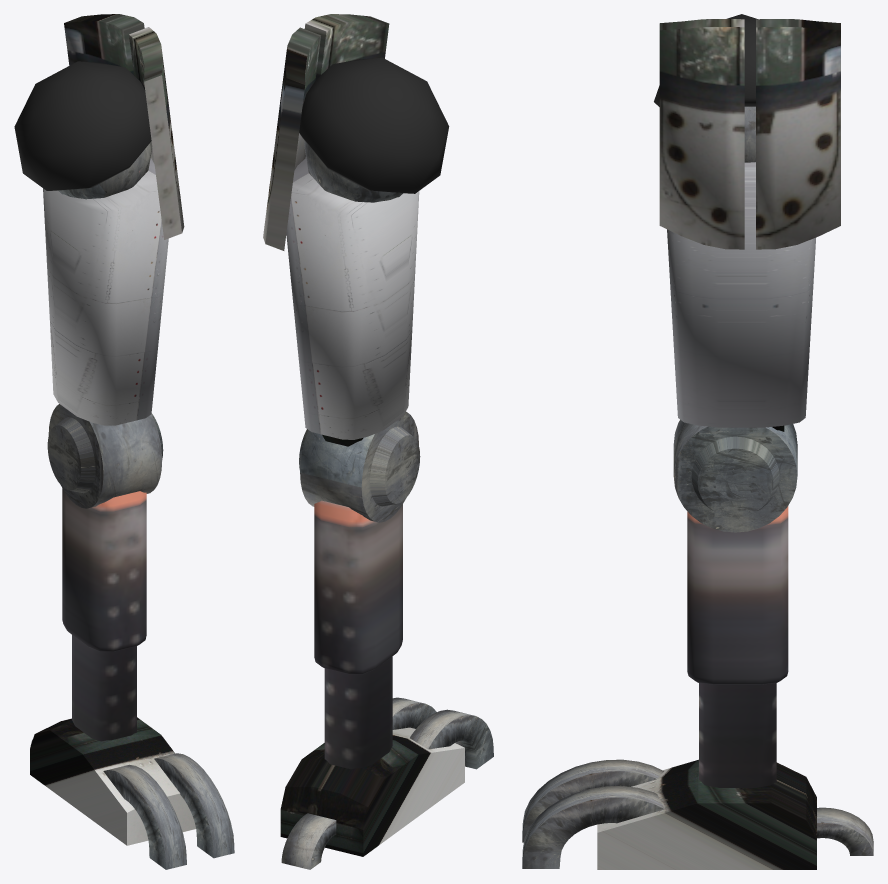
The model's file is Robot 5 leg.fbx.
3 renders of one model, left to right at view 1: azimuth 30°, elevation 25°; view 2: azimuth 150°, elevation 25°; view 3: azimuth 270°, elevation 25°, orthographic. The views are drawn at different scales.
Parts seen in each view (by area): view 1: Icosphere.001, Cylinder.004, Cube.013, Icosphere.002; view 2: Icosphere.001, Cylinder.004, Cube.013, Icosphere.002; view 3: Icosphere.001, Cylinder.004, Cube.013, Icosphere.002.
Part boxes in pixels (<box>): Icosphere.001: <box>43,14,184,425</box>; Cylinder.004: <box>47,404,163,741</box>; Cube.013: <box>30,717,234,869</box>; Icosphere.002: <box>14,61,151,190</box>; Icosphere.001: <box>263,14,419,446</box>; Cylinder.004: <box>299,411,420,769</box>; Cube.013: <box>280,697,493,869</box>; Icosphere.002: <box>299,57,449,193</box>; Icosphere.001: <box>659,19,840,431</box>; Cylinder.004: <box>673,419,797,787</box>; Cube.013: <box>522,759,873,869</box>; Icosphere.002: <box>654,14,757,106</box>.
Size of the model in its own units: 154 by 740 by 278.
